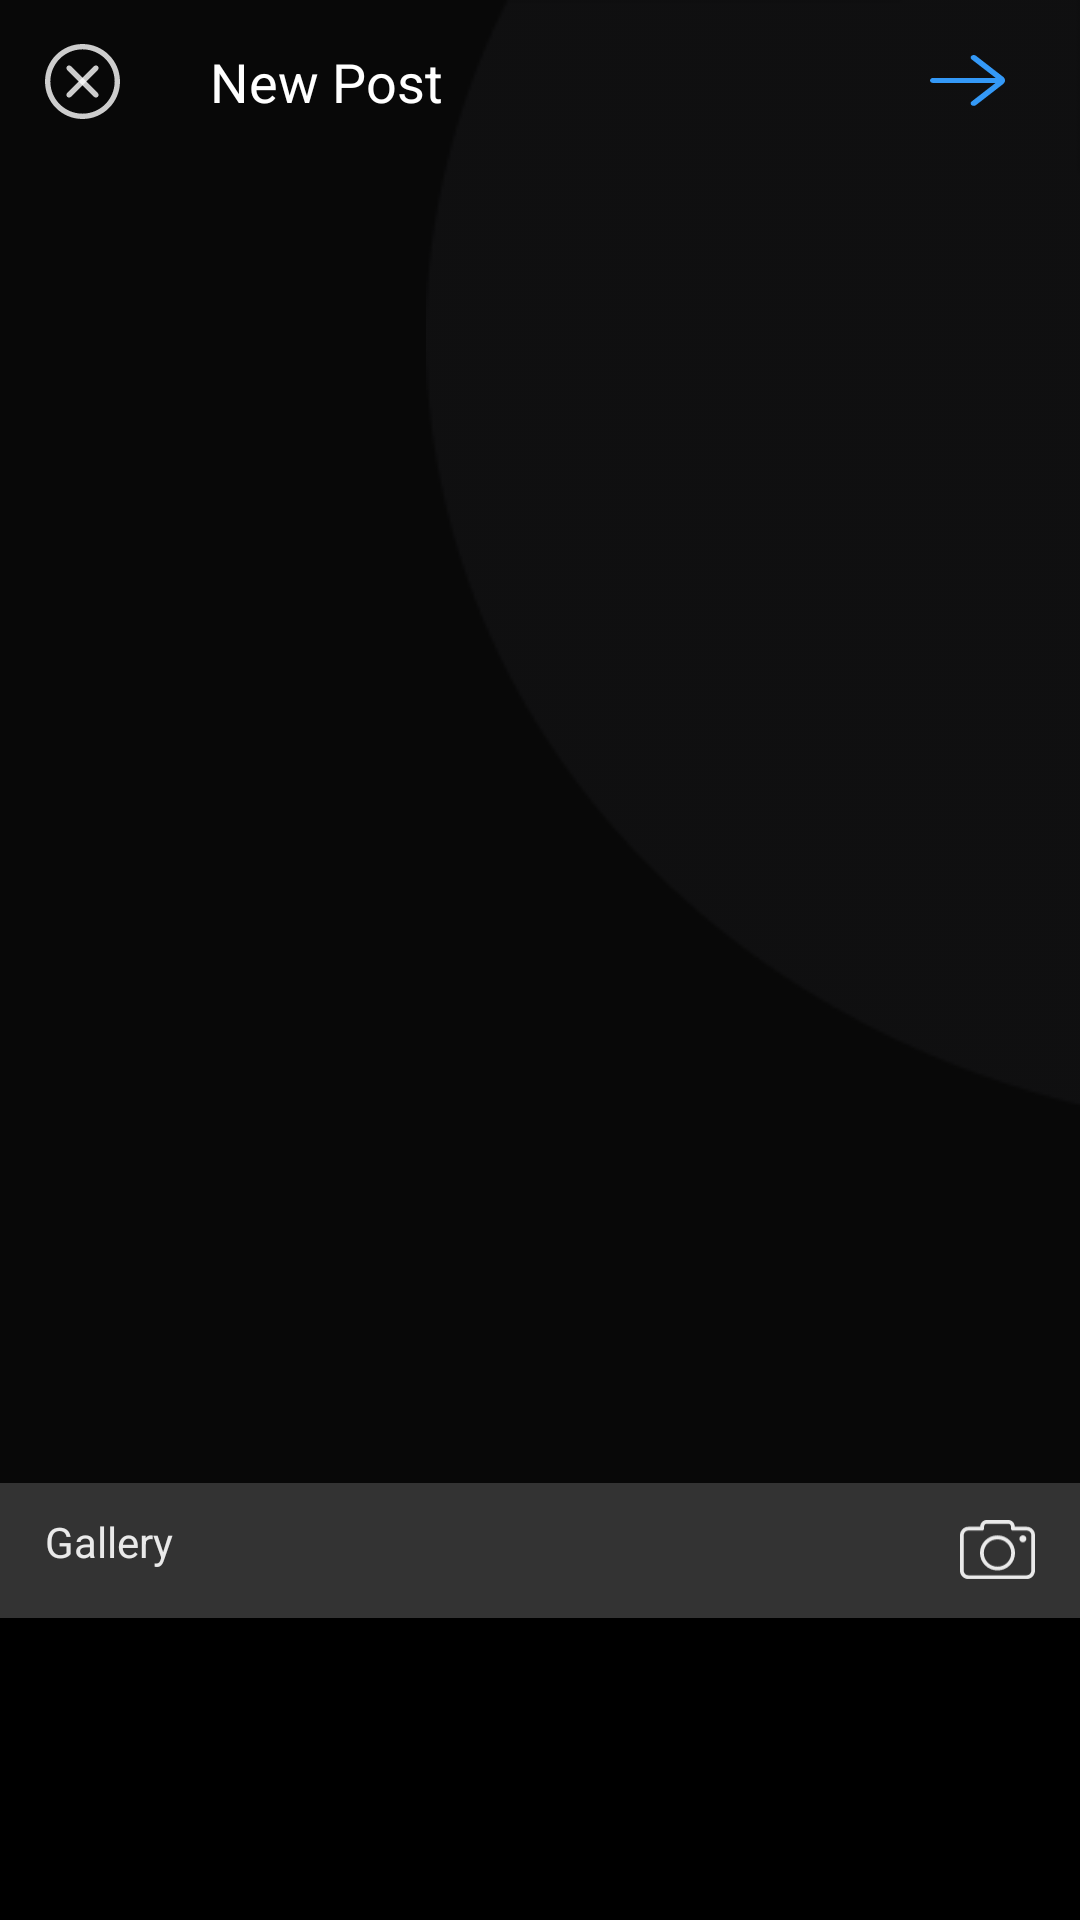

Screen size 1080 x 1920. Icon name, then its box in pixels as (x1, y1, x2, y2):
arrow right: (930, 55, 1005, 106)
cross: (45, 44, 120, 119)
